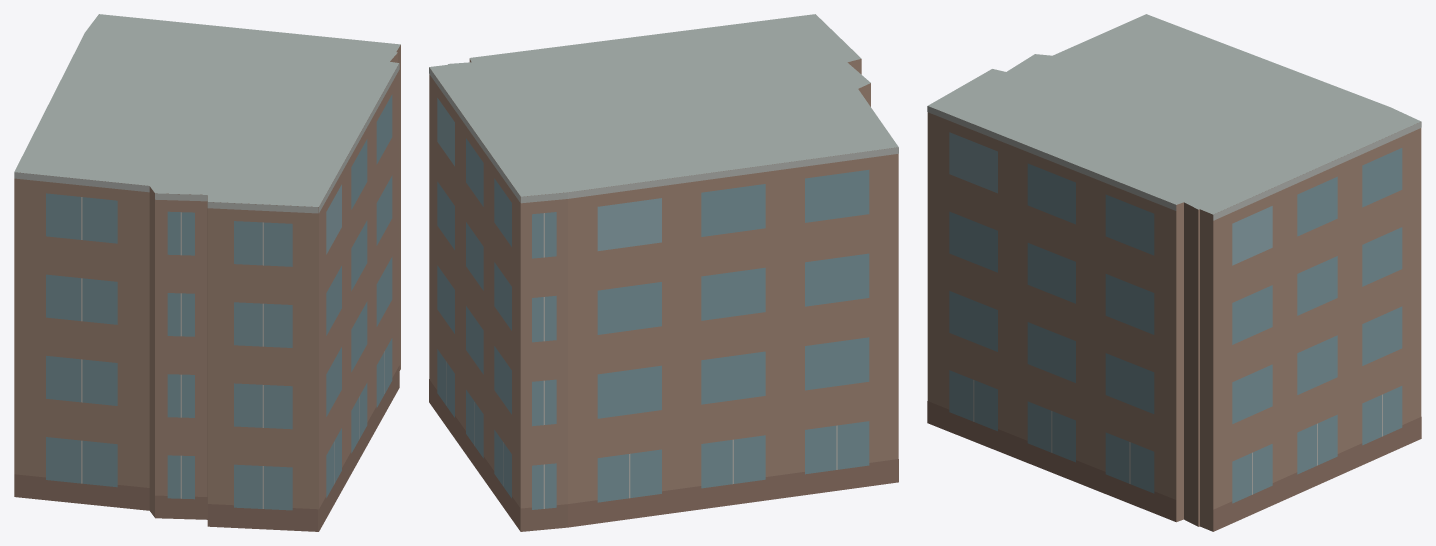
Rendered from survey-upis-32920223.glb.
The picture shows the model from 3 angles, left to right: view 1: azimuth 30°, elevation 25°; view 2: azimuth 150°, elevation 25°; view 3: azimuth 270°, elevation 25°; orthographic projection. The views are drawn at different scales.
Parts seen in each view (by area): view 1: survey-upis-32920223.tmp; view 2: survey-upis-32920223.tmp; view 3: survey-upis-32920223.tmp.
Part boxes in pixels (bbox=[...]): survey-upis-32920223.tmp: bbox=[14, 14, 400, 531]; survey-upis-32920223.tmp: bbox=[429, 14, 898, 531]; survey-upis-32920223.tmp: bbox=[927, 14, 1421, 531].
Size of the model in its own units: 16.76 by 12.35 by 17.43.
